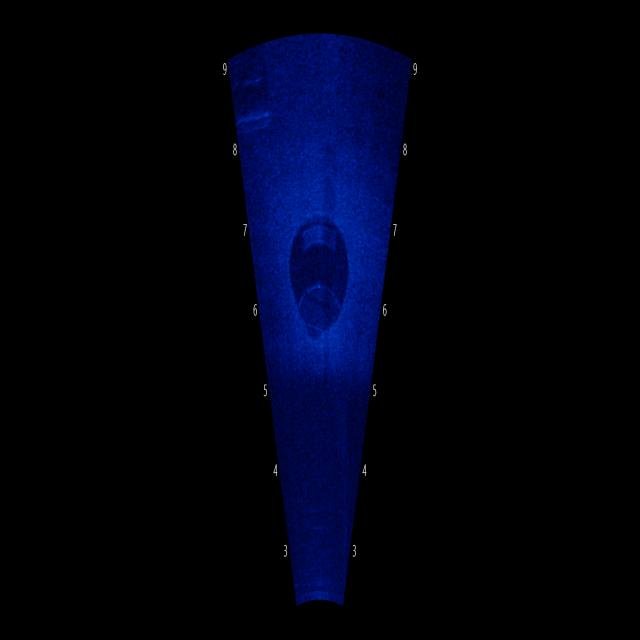circle: (272, 197, 353, 363)
